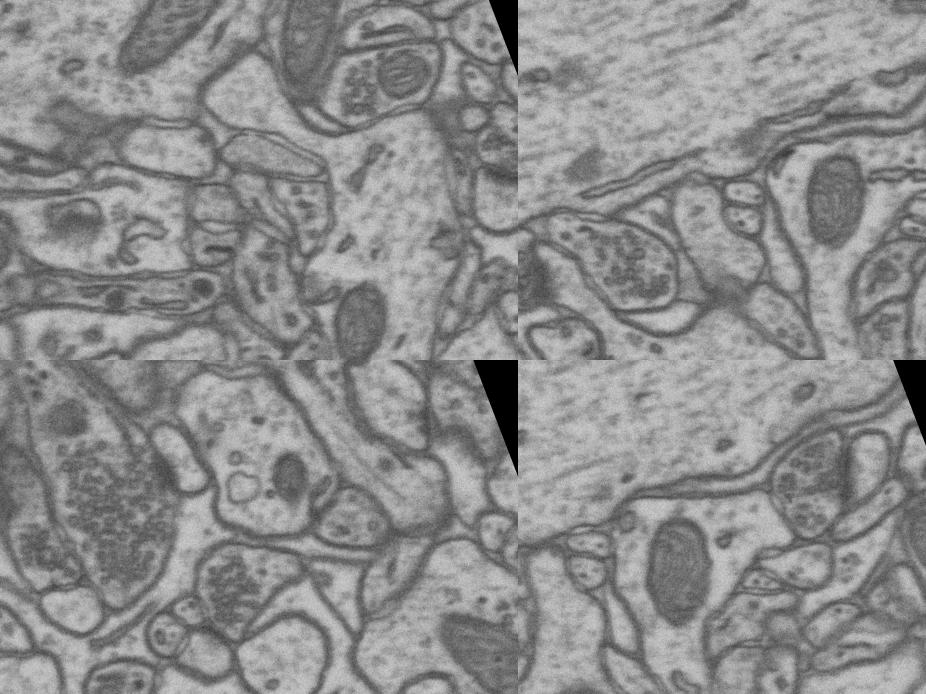mitochondria: (612, 488, 746, 639), (77, 0, 265, 92), (234, 0, 392, 105), (774, 123, 897, 245), (413, 566, 518, 694), (303, 266, 414, 360), (360, 26, 458, 121), (840, 232, 919, 319), (249, 431, 324, 509), (875, 480, 926, 588), (63, 360, 195, 388), (0, 196, 31, 297)
